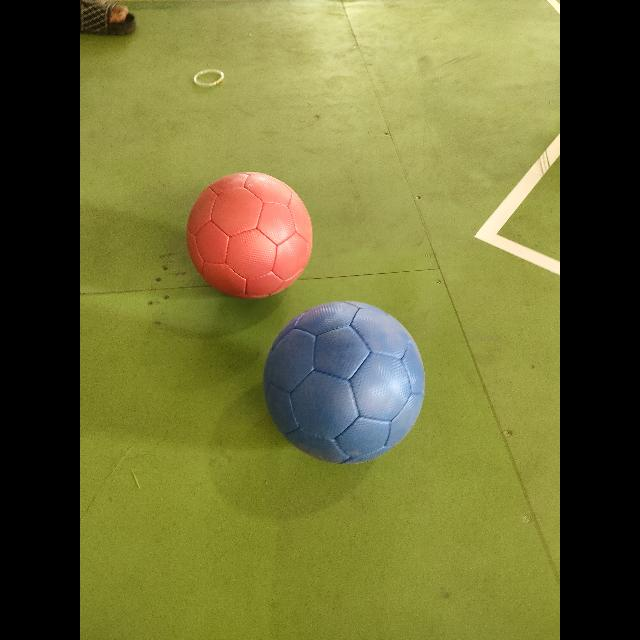B: (264, 301, 425, 464)
R: (186, 172, 312, 299)
